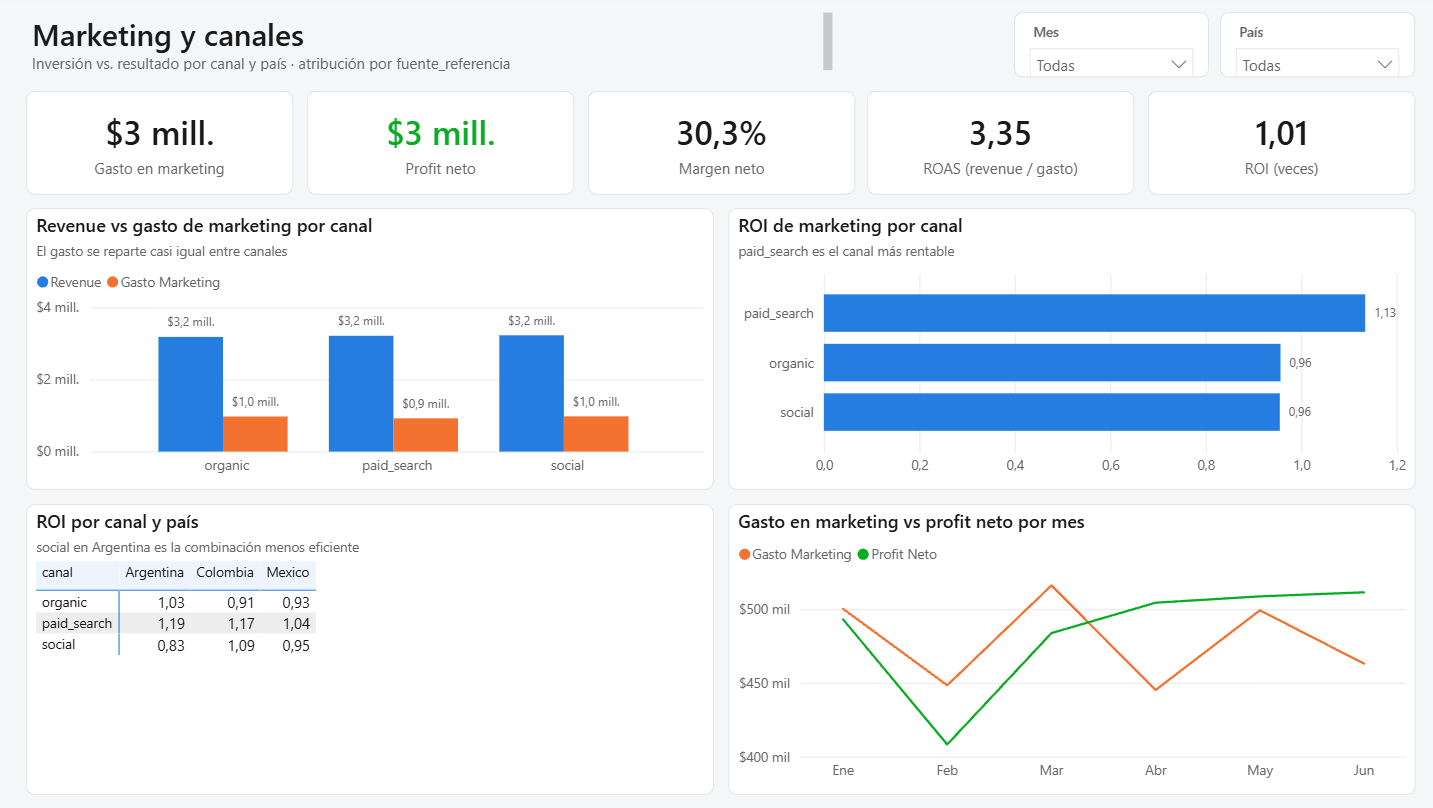

Layout of this report page (visuals, bound fields, positions):
{"tool":"powerbi","page":{"name":"Marketing","canvas":[1280,720],"ordinal":3},"visuals":[{"type":"textbox","box":[24,10,720,62],"z":0},{"type":"slicer","fields":{"Values":["dim_fecha.Mes"]},"box":[900,14,173,58],"z":100},{"type":"slicer","fields":{"Values":["dim_pais.pais"]},"box":[1083,14,173,58],"z":101},{"type":"card","fields":{"Values":["marketing.Gasto Marketing"]},"box":[24,84,237,92],"z":200},{"type":"card","fields":{"Values":["marketing.Profit Neto"]},"box":[273,84,237,92],"z":201},{"type":"card","fields":{"Values":["marketing.Margen Neto %"]},"box":[522,84,237,92],"z":202},{"type":"card","fields":{"Values":["marketing.ROAS"]},"box":[770,84,237,92],"z":203},{"type":"card","fields":{"Values":["marketing.ROI Marketing"]},"box":[1019,84,237,92],"z":204},{"type":"clusteredColumnChart","title":"Revenue vs gasto de marketing por canal","fields":{"Category":["dim_canal.canal"],"Y":["orders.Revenue","marketing.Gasto Marketing"]},"box":[24,188,610,250],"z":300},{"type":"clusteredBarChart","title":"ROI de marketing por canal","fields":{"Category":["dim_canal.canal"],"Y":["marketing.ROI Marketing"]},"box":[646,188,610,250],"z":301},{"type":"pivotTable","title":"ROI por canal y país","fields":{"Rows":["dim_canal.canal"],"Columns":["dim_pais.pais"],"Values":["marketing.ROI Marketing"]},"box":[24,450,610,258],"z":302},{"type":"lineChart","title":"Gasto en marketing vs profit neto por mes","fields":{"Category":["dim_fecha.Mes"],"Y":["marketing.Gasto Marketing","marketing.Profit Neto"]},"box":[646,450,610,258],"z":303}]}

Visuals, with their boxes in screenshot pixels (x1, y1, x2, y2), scaled from the page's 1280x720 canvas onto the 1433x808 screenshot:
textbox: box=[27, 11, 833, 81]
slicer - dim_fecha.Mes: box=[1008, 16, 1201, 81]
slicer - dim_pais.pais: box=[1212, 16, 1406, 81]
card - marketing.Gasto Marketing: box=[27, 94, 292, 198]
card - marketing.Profit Neto: box=[306, 94, 571, 198]
card - marketing.Margen Neto %: box=[584, 94, 850, 198]
card - marketing.ROAS: box=[862, 94, 1127, 198]
card - marketing.ROI Marketing: box=[1141, 94, 1406, 198]
"Revenue vs gasto de marketing por canal" clusteredColumnChart: box=[27, 211, 710, 492]
"ROI de marketing por canal" clusteredBarChart: box=[723, 211, 1406, 492]
"ROI por canal y país" pivotTable: box=[27, 505, 710, 795]
"Gasto en marketing vs profit neto por mes" lineChart: box=[723, 505, 1406, 795]
